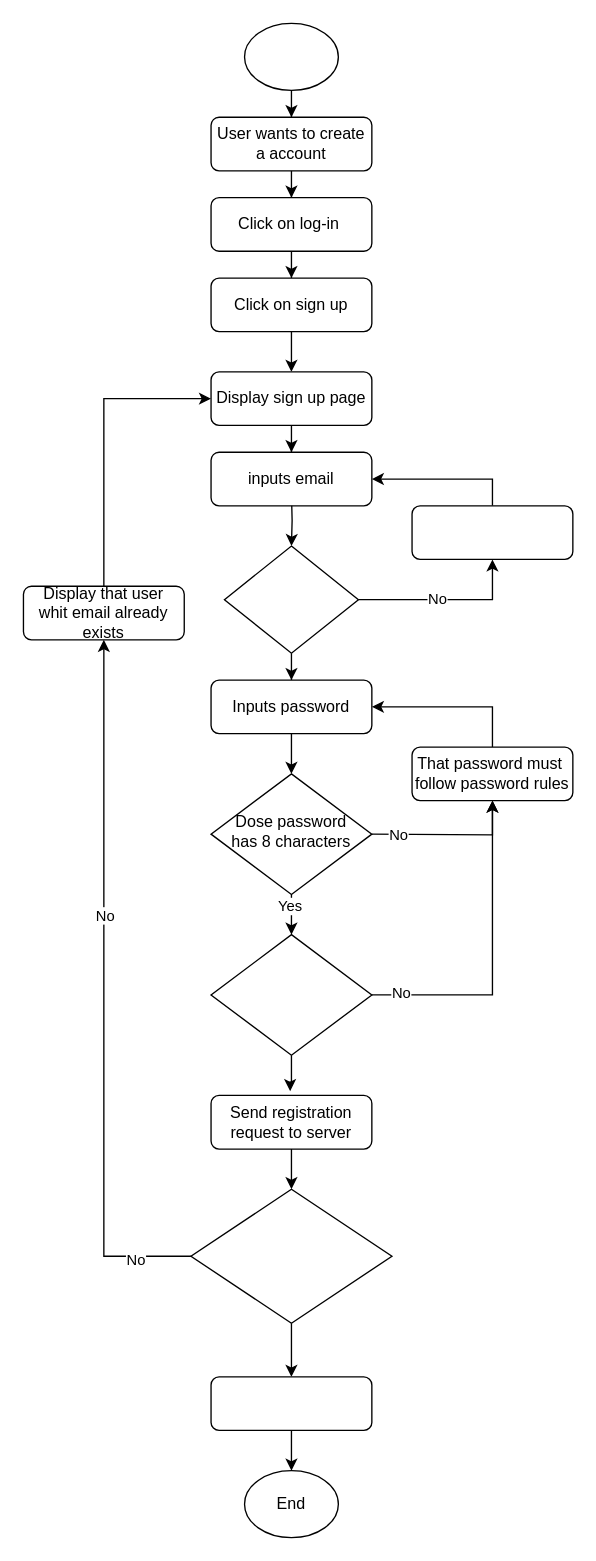
Some shapes in this 596 by 1561 pixel diagram are drawn without their labels. Each missing label, with the box of its shape:
Display that email must contain @: (411, 505, 573, 559)
Display that user registration is successful: (210, 1376, 372, 1430)
Dose email contain @: (223, 545, 358, 653)
Dose password contain any special characters: (210, 933, 372, 1055)
Is email all ready registered in the system: (190, 1188, 392, 1323)
Start: (243, 22, 338, 90)
